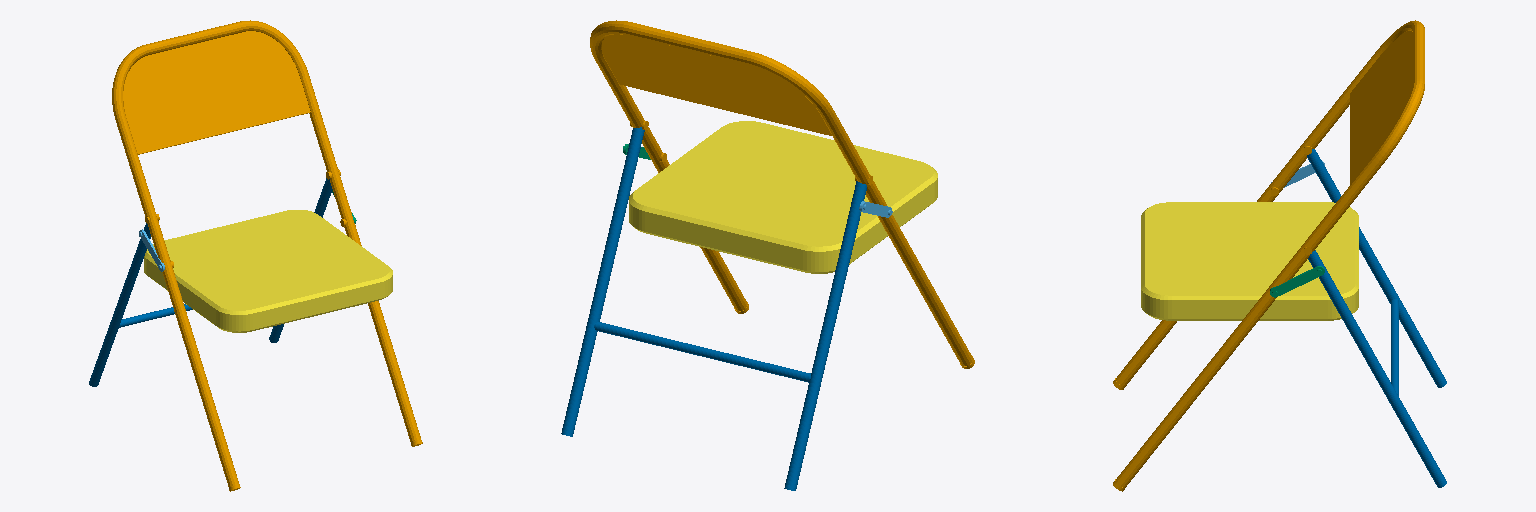
URDF robot description (100520):
<?xml version='1.0' encoding='utf-8'?>
<robot name="100520">
  <link name="fixed_root">
    <visual name="fixed_root_visual">
      <origin xyz="0 0 0" rpy="0 0 0" />
      <geometry>
        <mesh filename="meshes/fixed_root.obj" />
      </geometry>
    </visual>
  </link>
  <link name="link_left_link_pivot">
    <visual name="link_left_link_pivot_visual">
      <origin xyz="0 0 0" rpy="0 0 0" />
      <geometry>
        <mesh filename="meshes/link_left_link_pivot.obj" />
      </geometry>
    </visual>
  </link>
  <link name="link_right_link_pivot">
    <visual name="link_right_link_pivot_visual">
      <origin xyz="0 0 0" rpy="0 0 0" />
      <geometry>
        <mesh filename="meshes/link_right_link_pivot.obj" />
      </geometry>
    </visual>
  </link>
  <link name="link_seat_fold">
    <visual name="link_seat_fold_visual">
      <origin xyz="0 0 0" rpy="0 0 0" />
      <geometry>
        <mesh filename="meshes/link_seat_fold.obj" />
      </geometry>
    </visual>
  </link>
  <link name="link_rear_frame_fold">
    <visual name="link_rear_frame_fold_visual">
      <origin xyz="0 0 0" rpy="0 0 0" />
      <geometry>
        <mesh filename="meshes/link_rear_frame_fold.obj" />
      </geometry>
    </visual>
  </link>
  <joint name="left_link_pivot" type="revolute">
    <parent link="fixed_root" />
    <child link="link_left_link_pivot" />
    <origin xyz="-0.293221592903 0.00764329917729 0.517520010471" rpy="0 -0 0" />
    <axis xyz="1 1.09123837757e-18 0" />
    <limit lower="-0.0872664625997" upper="0.0872664625997" effort="1" velocity="1" />
  </joint>
  <joint name="right_link_pivot" type="revolute">
    <parent link="fixed_root" />
    <child link="link_right_link_pivot" />
    <origin xyz="0.293221592903 0.00764329917729 0.517520010471" rpy="0 -0 0" />
    <axis xyz="1 1.09123837757e-18 0" />
    <limit lower="-0.0872664625997" upper="0.0872664625997" effort="1" velocity="1" />
  </joint>
  <joint name="seat_fold" type="revolute">
    <parent link="fixed_root" />
    <child link="link_seat_fold" />
    <origin xyz="0 -0.0284391753376 0.46751999855" rpy="0 -0 0" />
    <axis xyz="1 1.09123837757e-18 0" />
    <limit lower="-1.570796326795" upper="0" effort="1" velocity="1" />
  </joint>
  <joint name="rear_frame_fold" type="revolute">
    <parent link="fixed_root" />
    <child link="link_rear_frame_fold" />
    <origin xyz="2.16840434497e-19 0.0852061882615 0.625" rpy="0 -0 0" />
    <axis xyz="1 1.09123837757e-18 0" />
    <limit lower="-1.047197551197" upper="0.0349065850399" effort="1" velocity="1" />
  </joint>
</robot>

--- What the picture shows (computed from the rendered views, not written in the file) ---
Views: 3 orthographic renders of the robot side by side, from view 1: azimuth 30°, elevation 25°; view 2: azimuth 150°, elevation 25°; view 3: azimuth 270°, elevation 25°.
Model 100520 with 5 links and 4 joints (4 revolute), rooted at fixed_root, posed all joints at 0.
Visible links, largest first — view 1: fixed_root, link_seat_fold, link_rear_frame_fold; view 2: link_seat_fold, fixed_root, link_rear_frame_fold; view 3: link_seat_fold, fixed_root, link_rear_frame_fold, link_right_link_pivot.
Link boxes in pixels (left/top/right/bottom): fixed_root: left=112, top=20, right=422, bottom=491; link_seat_fold: left=144, top=210, right=392, bottom=332; link_rear_frame_fold: left=89, top=178, right=332, bottom=386; link_seat_fold: left=629, top=121, right=937, bottom=273; fixed_root: left=590, top=20, right=974, bottom=368; link_rear_frame_fold: left=561, top=127, right=866, bottom=490; link_seat_fold: left=1141, top=202, right=1358, bottom=320; fixed_root: left=1113, top=20, right=1424, bottom=491; link_rear_frame_fold: left=1307, top=149, right=1446, bottom=487; link_right_link_pivot: left=1270, top=266, right=1324, bottom=297.
Bounding box of the posed robot: 0.6026 × 0.7838 × 1 m (x, y, z).
Meshes: 5 distinct files referenced, 5 mesh visuals loaded (5 OBJ).
